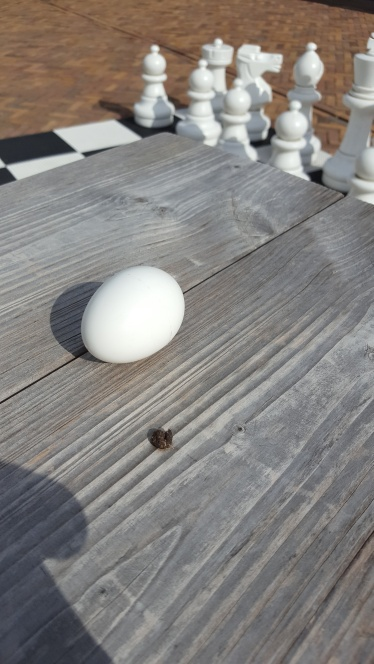egg: (80, 266, 189, 364)
